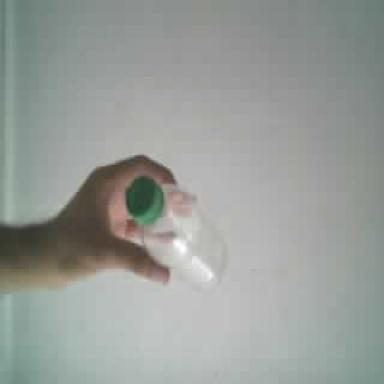bottle: (127, 176, 222, 286)
